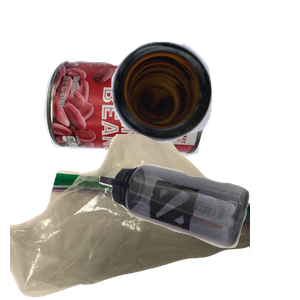glass: (109, 39, 300, 175)
metal: (41, 58, 240, 207)
plastic: (97, 162, 300, 300)
trash: (10, 134, 250, 300)
